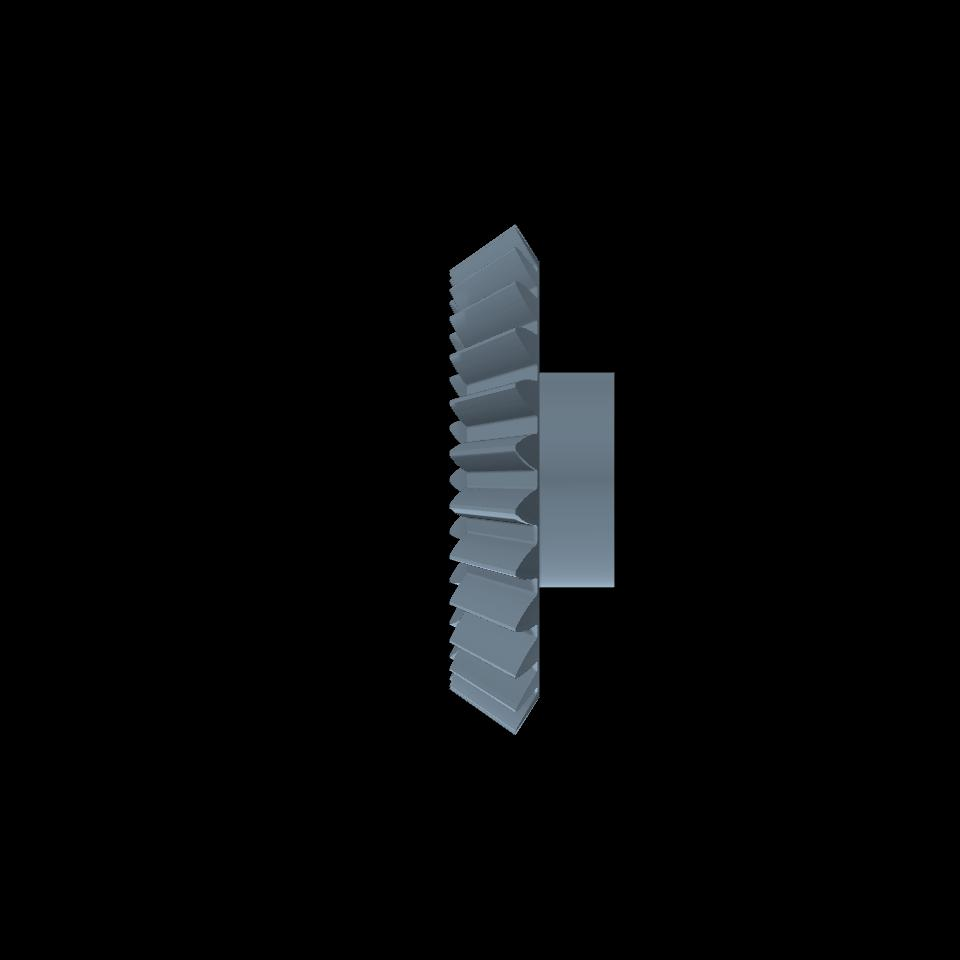Bevel: (449, 226, 540, 734)
